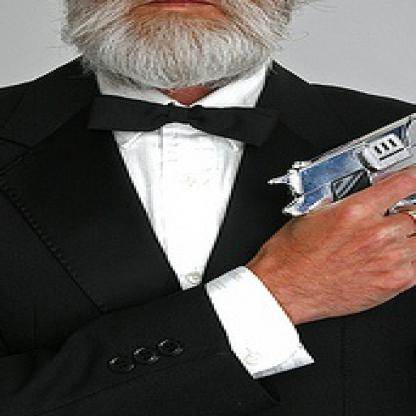gun: (265, 83, 414, 225)
